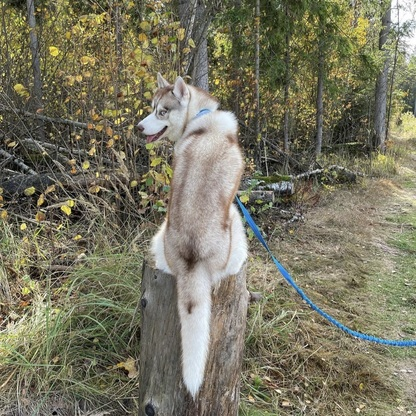husky: (130, 68, 252, 408)
